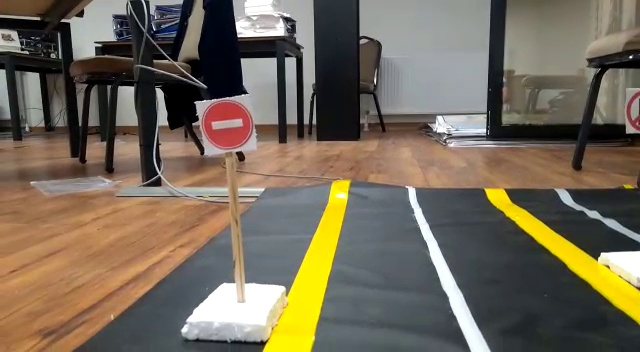girisi_olmayan_yol: (202, 93, 255, 151)
